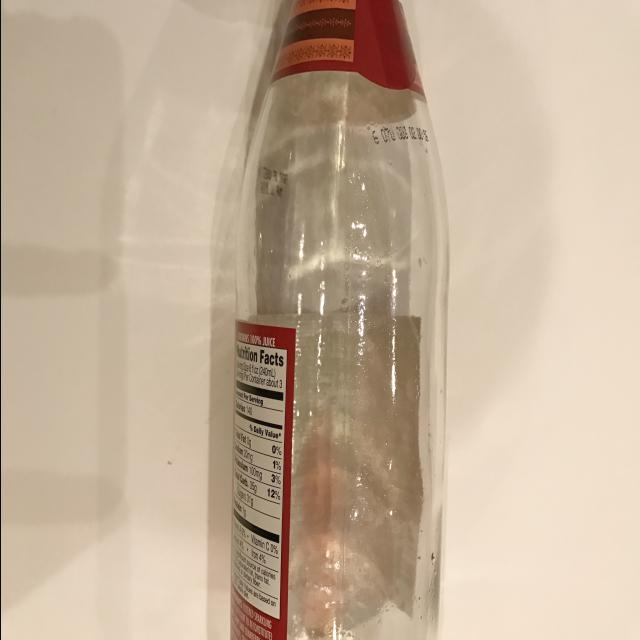Glass: (217, 0, 462, 640)
